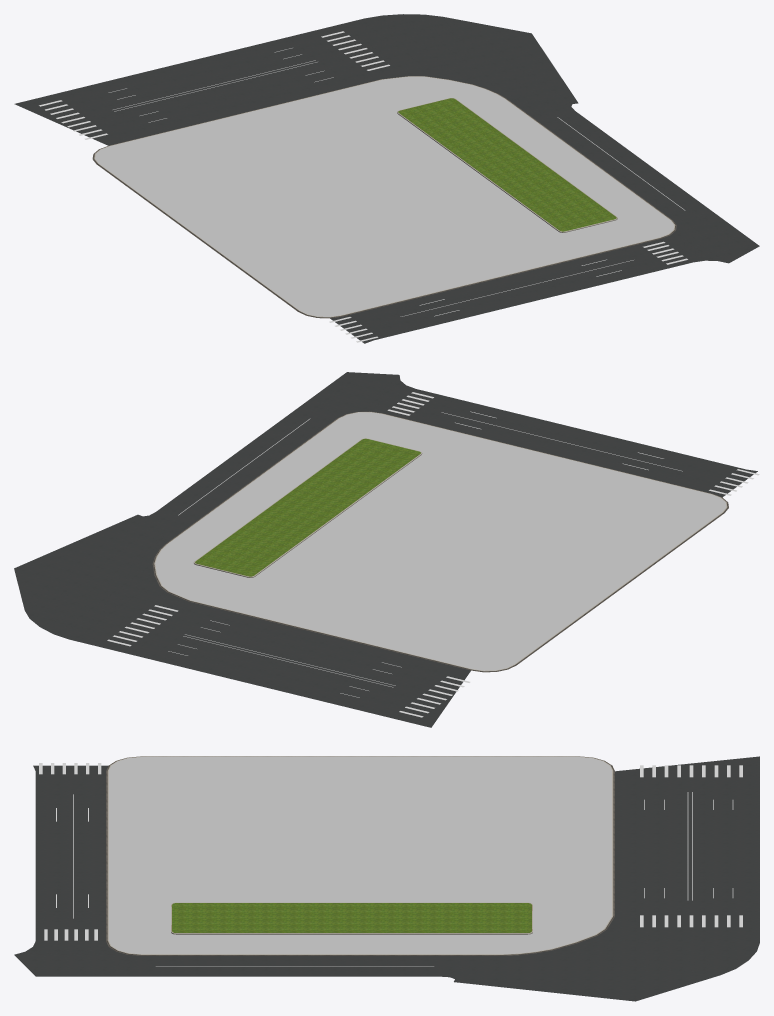
File: New_Terrain_Area_07.fbx
3 views of the same model, one above another, from view 1: azimuth 30°, elevation 25°; view 2: azimuth 150°, elevation 25°; view 3: azimuth 270°, elevation 25° (orthographic). The views are drawn at different scales.
Parts seen in each view (by area): view 1: Area_07, Road_25, Road_Alpha_08, Road_Alpha_26; view 2: Area_07, Road_25, Road_Alpha_08, Road_Alpha_26; view 3: Area_07, Road_25, Road_Alpha_08, Road_Alpha_26.
Boxes of the visible parts, x1,y1,x2,y2 form: Area_07: (92,76,676,318); Road_25: (14,14,759,343); Road_Alpha_08: (39,31,389,139); Road_Alpha_26: (329,241,687,342); Area_07: (152,411,728,672); Road_25: (14,372,757,727); Road_Alpha_08: (107,605,470,717); Road_Alpha_26: (387,392,759,495); Area_07: (106,756,614,955); Road_25: (14,756,759,1001); Road_Alpha_08: (640,765,742,927); Road_Alpha_26: (39,763,101,940).
Bounding box in the file's own units: 8332 × 21.84 × 10718.
